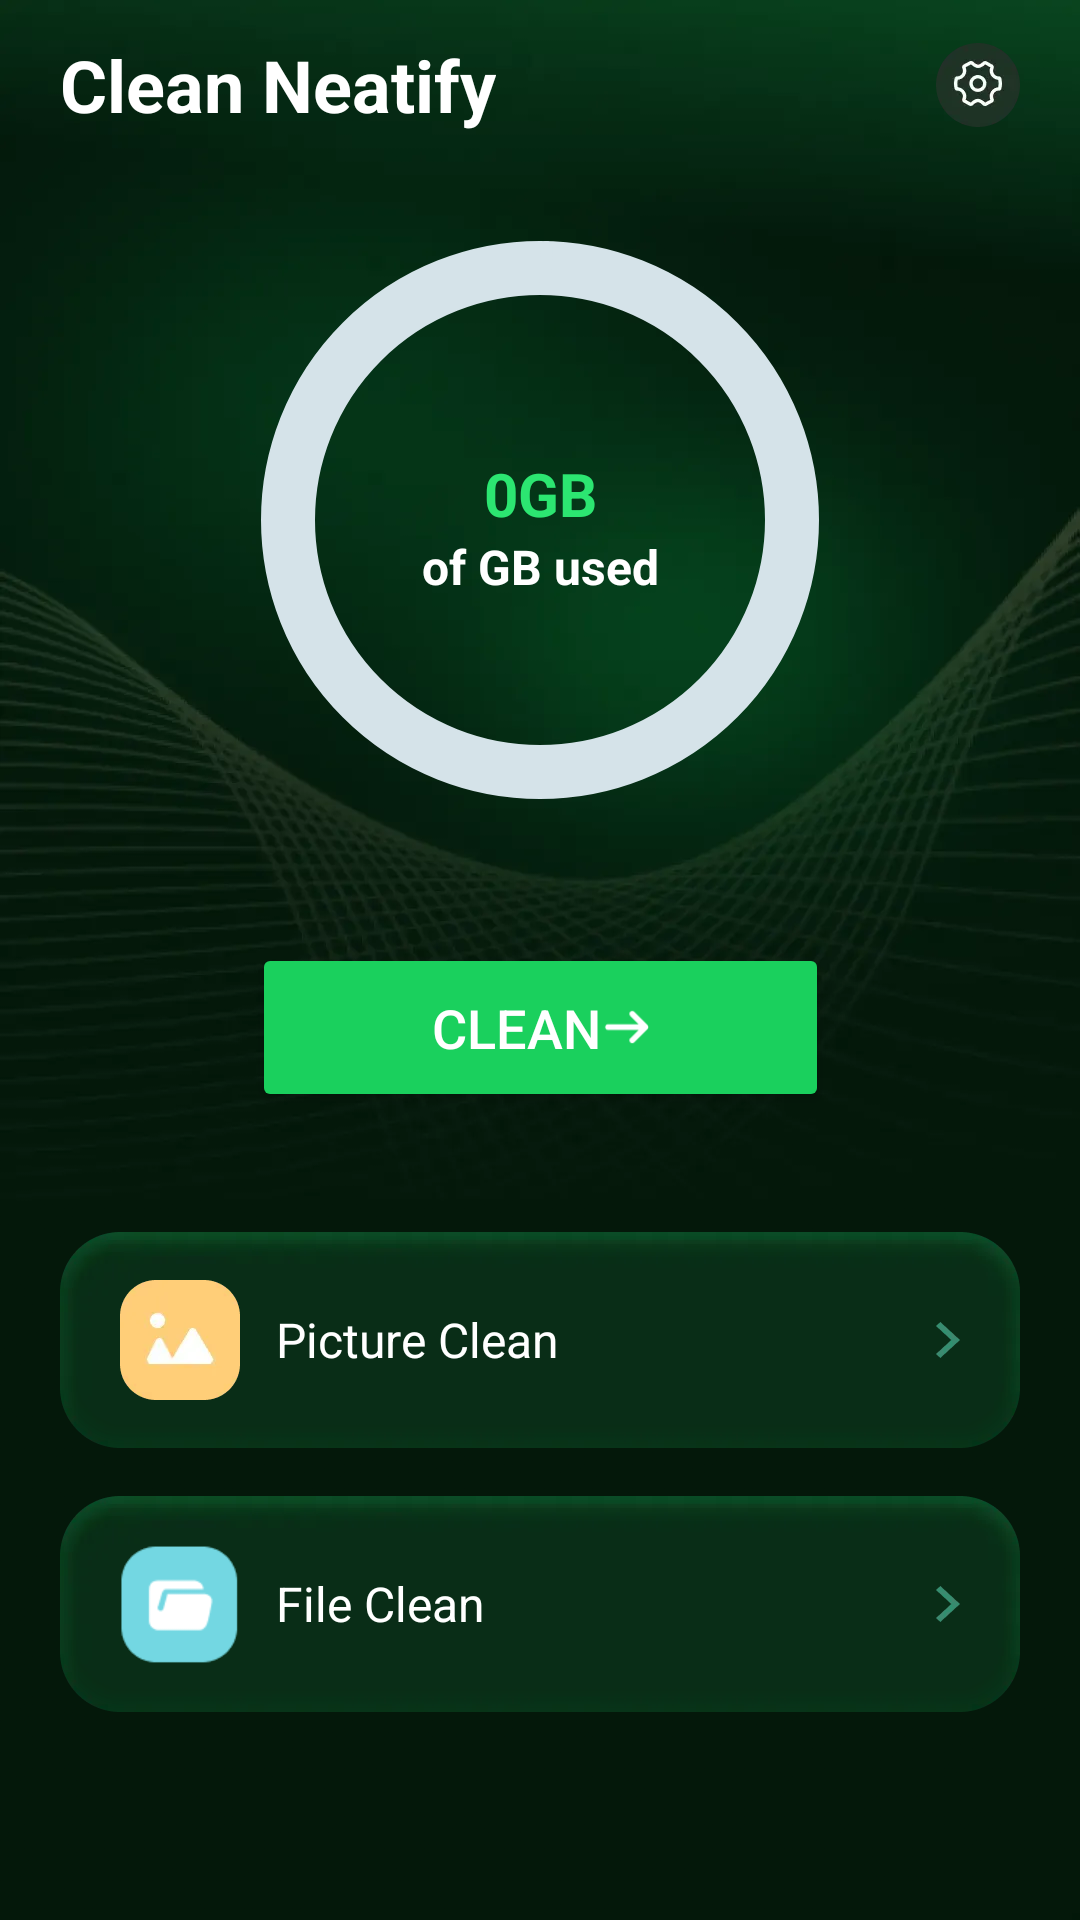

Locate icon controls on the screen. Image size 1080*1920, boxes as (x1, y1, x2, y2).
set: (936, 43, 1020, 127)
